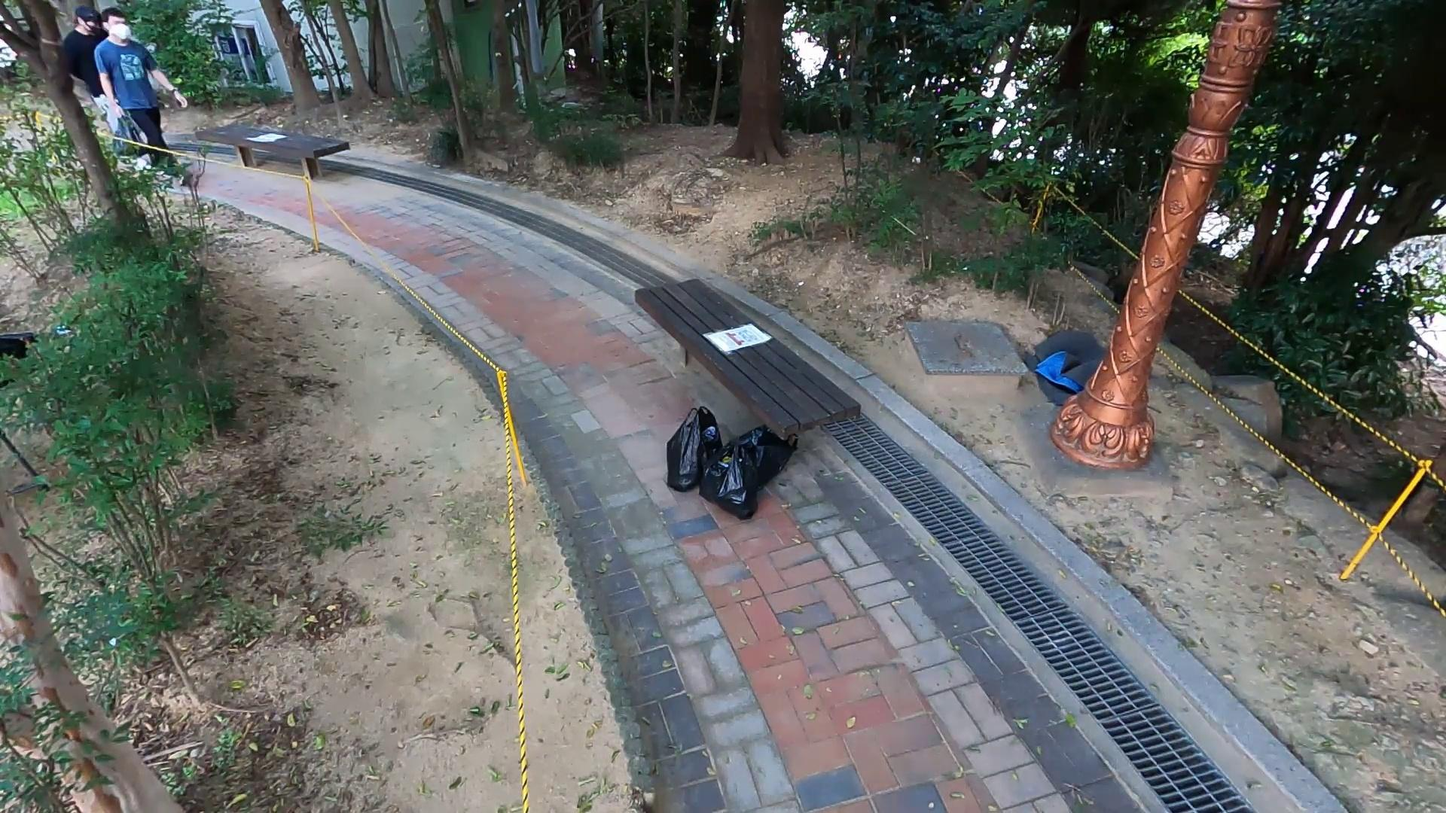trash: (1020, 323, 1117, 408), (724, 416, 801, 490), (695, 440, 762, 522), (668, 401, 728, 492)
